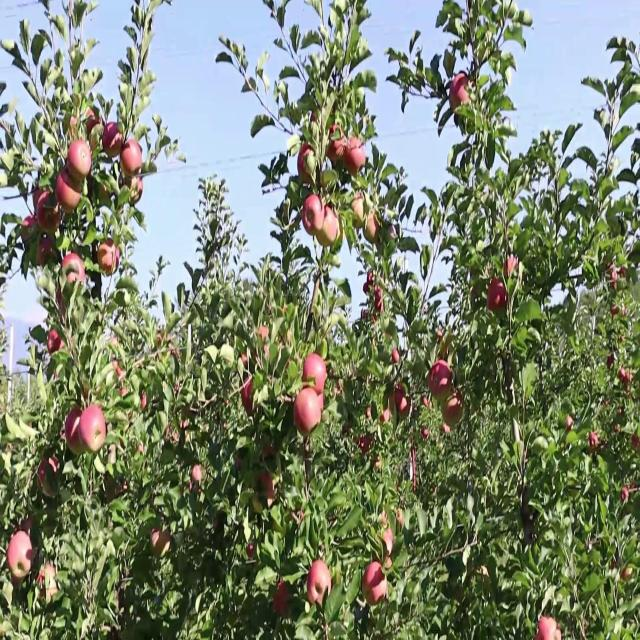apple: (294, 387, 321, 436), (78, 404, 106, 451), (6, 531, 34, 578), (55, 167, 81, 213), (306, 560, 331, 604), (362, 562, 388, 604), (66, 138, 91, 180), (36, 191, 61, 233), (301, 193, 324, 236), (316, 204, 339, 247), (302, 353, 326, 393), (344, 136, 366, 176), (344, 136, 366, 176), (429, 360, 452, 398), (65, 407, 84, 453), (449, 71, 470, 111), (38, 458, 59, 498), (254, 471, 275, 511), (120, 138, 142, 176), (98, 238, 120, 276), (38, 562, 58, 602), (441, 391, 462, 427), (61, 251, 85, 282), (326, 124, 345, 162), (102, 122, 122, 158), (298, 142, 315, 184), (85, 107, 102, 149), (392, 382, 411, 417), (488, 278, 508, 311), (86, 109, 102, 150), (156, 331, 180, 357), (534, 616, 561, 639), (274, 580, 290, 618), (125, 173, 144, 204), (390, 382, 408, 413), (151, 527, 170, 556), (364, 209, 380, 242), (241, 376, 254, 416), (36, 236, 52, 267), (21, 213, 38, 242), (351, 193, 364, 229), (46, 329, 64, 353), (258, 324, 270, 358), (85, 107, 101, 132), (504, 253, 519, 278), (382, 527, 394, 556), (32, 187, 45, 213), (190, 464, 202, 491), (374, 284, 384, 313), (399, 396, 411, 418), (362, 271, 374, 293), (19, 516, 34, 533), (112, 360, 125, 378), (262, 444, 276, 460), (618, 367, 631, 384), (69, 116, 79, 138), (395, 509, 404, 529), (630, 433, 640, 451), (396, 507, 404, 529), (246, 542, 255, 560), (391, 347, 400, 364), (606, 353, 615, 369), (380, 409, 391, 422), (389, 222, 396, 240), (318, 393, 324, 411), (141, 393, 148, 408), (240, 353, 249, 364), (235, 456, 242, 470)
